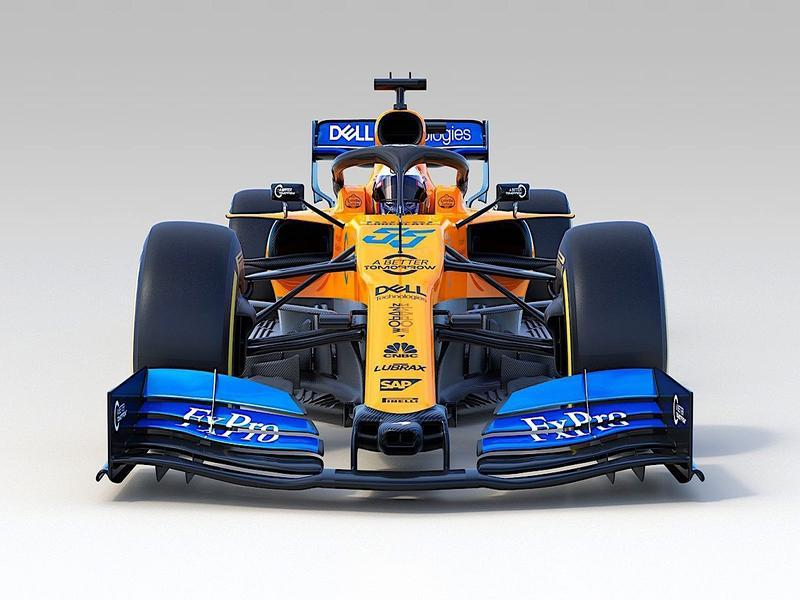racecar: (92, 71, 731, 505)
